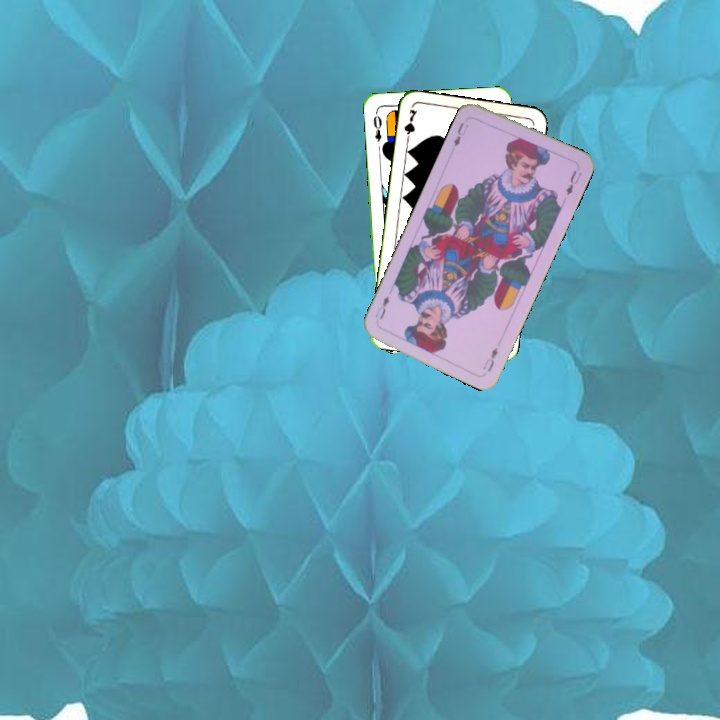EO: (369, 108, 384, 144)
EU: (449, 119, 471, 149), (479, 344, 500, 374)
G7: (400, 105, 420, 146)
